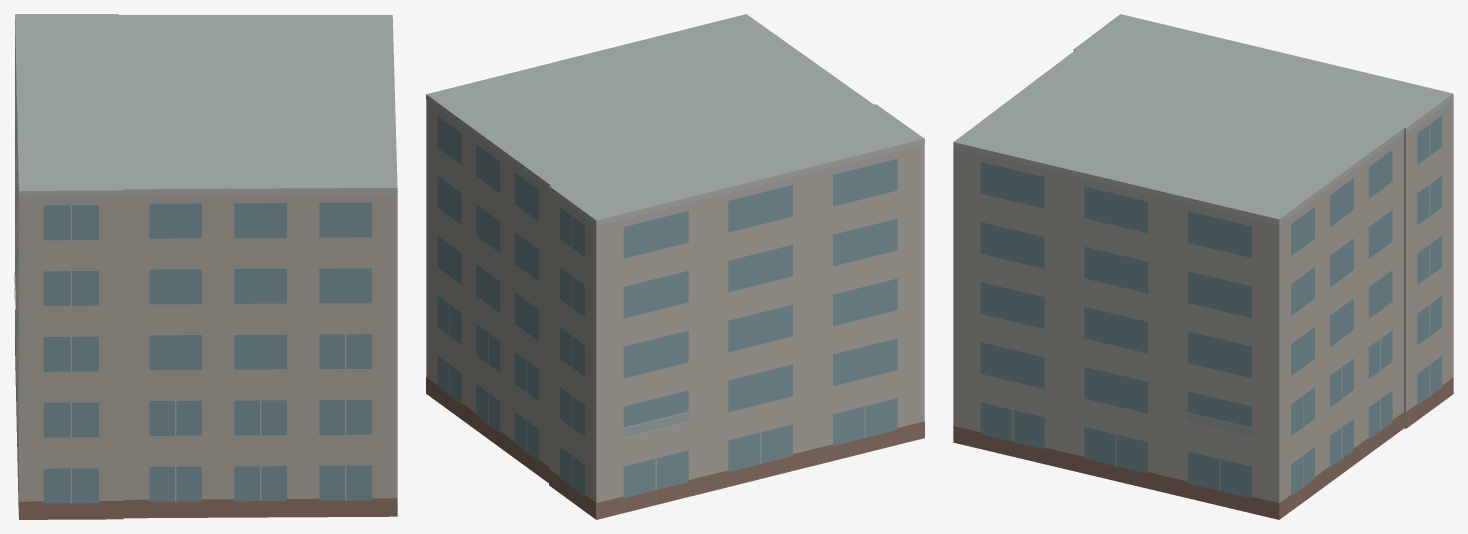
Rendered from survey-upis-32904368.glb.
The picture shows the model from 3 angles, left to right: view 1: azimuth 30°, elevation 25°; view 2: azimuth 150°, elevation 25°; view 3: azimuth 270°, elevation 25°; orthographic projection. The views are drawn at different scales.
Parts seen in each view (by area): view 1: survey-upis-32904368.tmp; view 2: survey-upis-32904368.tmp; view 3: survey-upis-32904368.tmp.
Part boxes in pixels (x1,y1,x2,y2): survey-upis-32904368.tmp: [14, 14, 397, 519]; survey-upis-32904368.tmp: [426, 14, 924, 519]; survey-upis-32904368.tmp: [953, 14, 1453, 519].
Size of the model in its own units: 19.95 by 13.6 by 20.52.
